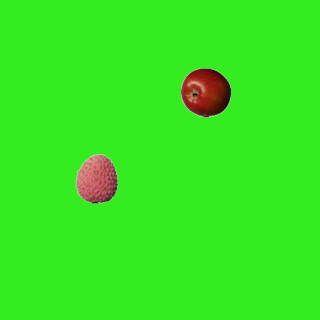Apple Braeburn: (180, 67, 230, 117)
Lychee: (71, 153, 121, 203)
